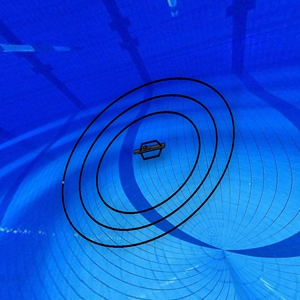circle: (59, 74, 238, 249)
submarine: (131, 139, 168, 165)
